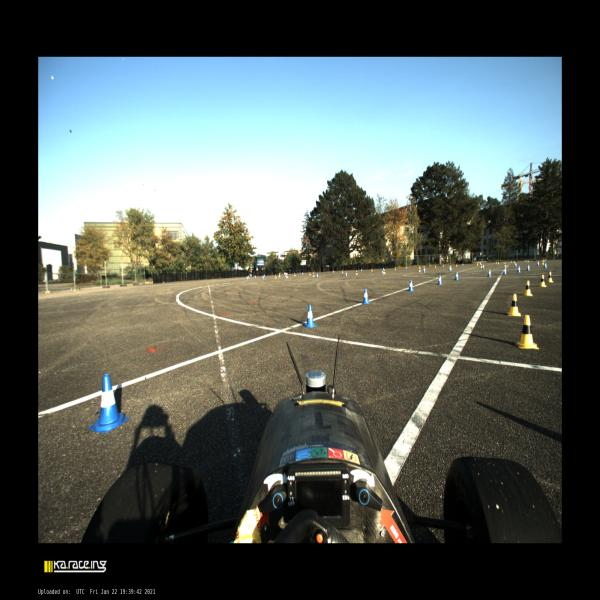blue_cone: (89, 374, 129, 433), (304, 304, 316, 327), (362, 288, 370, 304), (409, 280, 414, 291), (454, 271, 459, 280), (437, 275, 442, 284), (503, 267, 507, 275), (487, 269, 491, 277), (526, 264, 530, 271), (517, 265, 521, 272), (482, 264, 485, 270), (544, 263, 547, 268), (514, 262, 517, 267), (345, 271, 347, 277), (382, 269, 384, 275), (262, 275, 264, 280), (316, 273, 318, 278), (424, 268, 426, 273), (449, 266, 451, 271), (537, 261, 539, 266), (246, 276, 248, 280), (274, 274, 276, 278), (285, 275, 287, 279), (405, 266, 407, 270), (545, 258, 547, 262), (462, 263, 464, 266), (525, 260, 527, 263), (248, 275, 249, 279), (255, 274, 256, 278), (264, 274, 265, 278), (333, 270, 334, 274), (361, 268, 362, 272), (495, 262, 497, 264), (511, 260, 512, 264), (302, 272, 303, 275), (443, 264, 444, 267), (480, 262, 481, 265), (383, 268, 384, 270), (424, 266, 425, 268)
yellow_cone: (516, 315, 539, 349), (508, 294, 521, 316), (524, 280, 533, 296), (539, 274, 547, 286), (548, 272, 554, 282), (355, 270, 358, 276), (278, 272, 280, 278), (312, 272, 314, 278), (497, 261, 500, 265), (286, 273, 288, 278), (450, 265, 452, 270), (480, 263, 482, 268), (504, 262, 506, 267), (542, 260, 544, 265), (294, 272, 296, 276), (309, 272, 311, 276), (371, 268, 373, 272), (384, 270, 386, 274), (419, 268, 421, 272), (513, 260, 515, 264), (394, 267, 396, 270), (456, 264, 458, 267), (527, 260, 529, 263), (543, 259, 545, 262), (342, 270, 343, 274), (477, 262, 478, 266), (419, 266, 421, 268), (435, 265, 436, 268)
